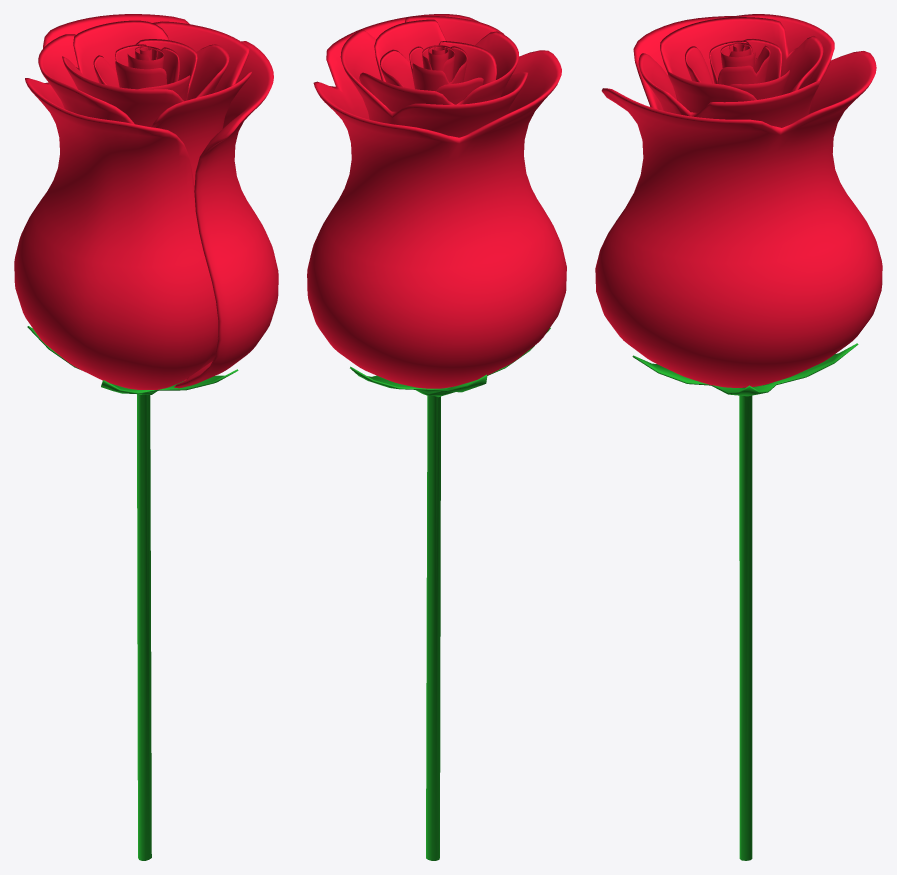
File: rose.fbx
3 views of the same model, side by side, from view 1: azimuth 30°, elevation 25°; view 2: azimuth 150°, elevation 25°; view 3: azimuth 270°, elevation 25° (orthographic).
Parts seen in each view (by area): view 1: Circle, Circle.001, Sphere, Circle.002, Circle.003, Circle.004; view 2: Circle, Sphere, Circle.001, Circle.002, Circle.003, Circle.004; view 3: Circle, Sphere, Circle.002, Circle.001, Circle.003, Circle.004.
Part boxes in pixels (bbox=[...]): Circle: bbox=[14, 14, 278, 389]; Circle.001: bbox=[38, 21, 251, 371]; Sphere: bbox=[27, 326, 238, 860]; Circle.002: bbox=[62, 20, 229, 127]; Circle.003: bbox=[93, 39, 197, 101]; Circle.004: bbox=[115, 44, 179, 89]; Circle: bbox=[307, 14, 566, 388]; Sphere: bbox=[350, 328, 550, 860]; Circle.001: bbox=[340, 16, 527, 137]; Circle.002: bbox=[359, 19, 519, 111]; Circle.003: bbox=[380, 41, 496, 104]; Circle.004: bbox=[409, 46, 467, 91]; Circle: bbox=[595, 16, 882, 387]; Sphere: bbox=[632, 343, 858, 860]; Circle.002: bbox=[660, 17, 823, 112]; Circle.001: bbox=[638, 14, 834, 127]; Circle.003: bbox=[685, 39, 789, 99]; Circle.004: bbox=[709, 40, 770, 85].
Bounding box in the file's own units: 143 × 500 × 160.
